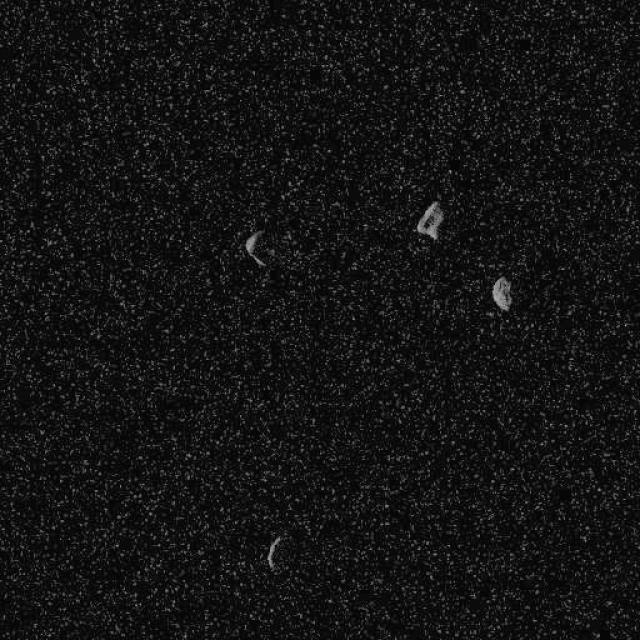D2: (415, 200, 444, 240), (244, 228, 272, 268), (490, 275, 512, 311), (266, 534, 284, 572)
